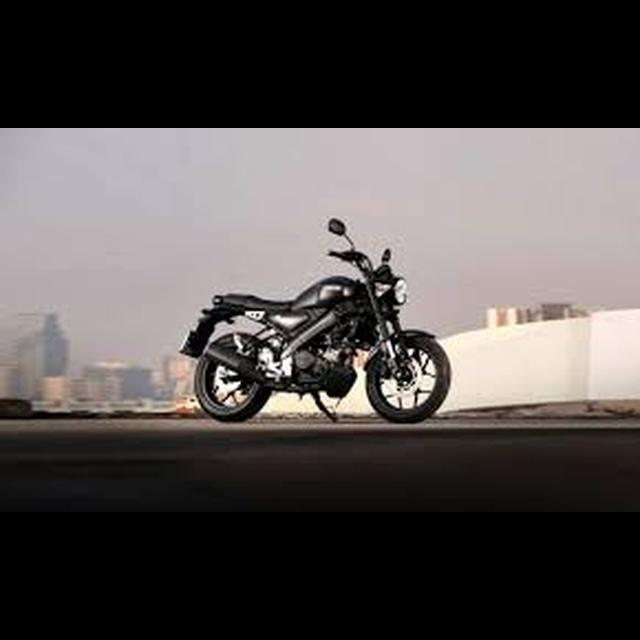motorcycle: (177, 211, 454, 429)
